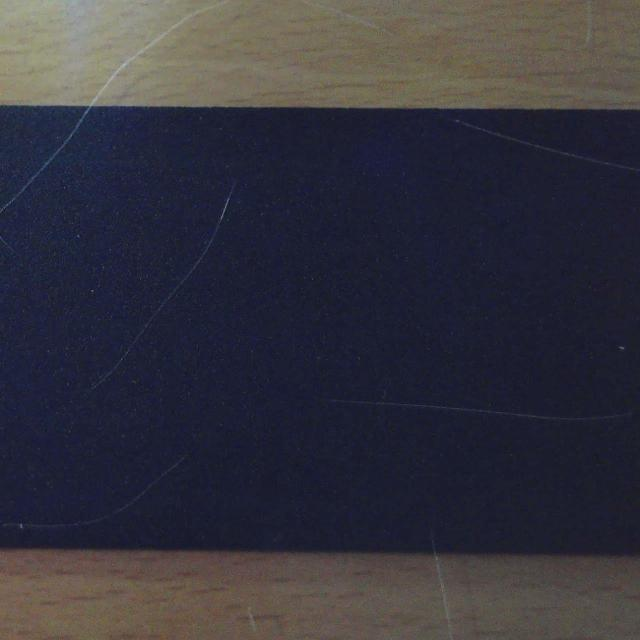defect: (87, 178, 240, 392), (0, 454, 193, 542), (430, 109, 640, 177), (317, 392, 640, 427), (0, 104, 93, 218)
